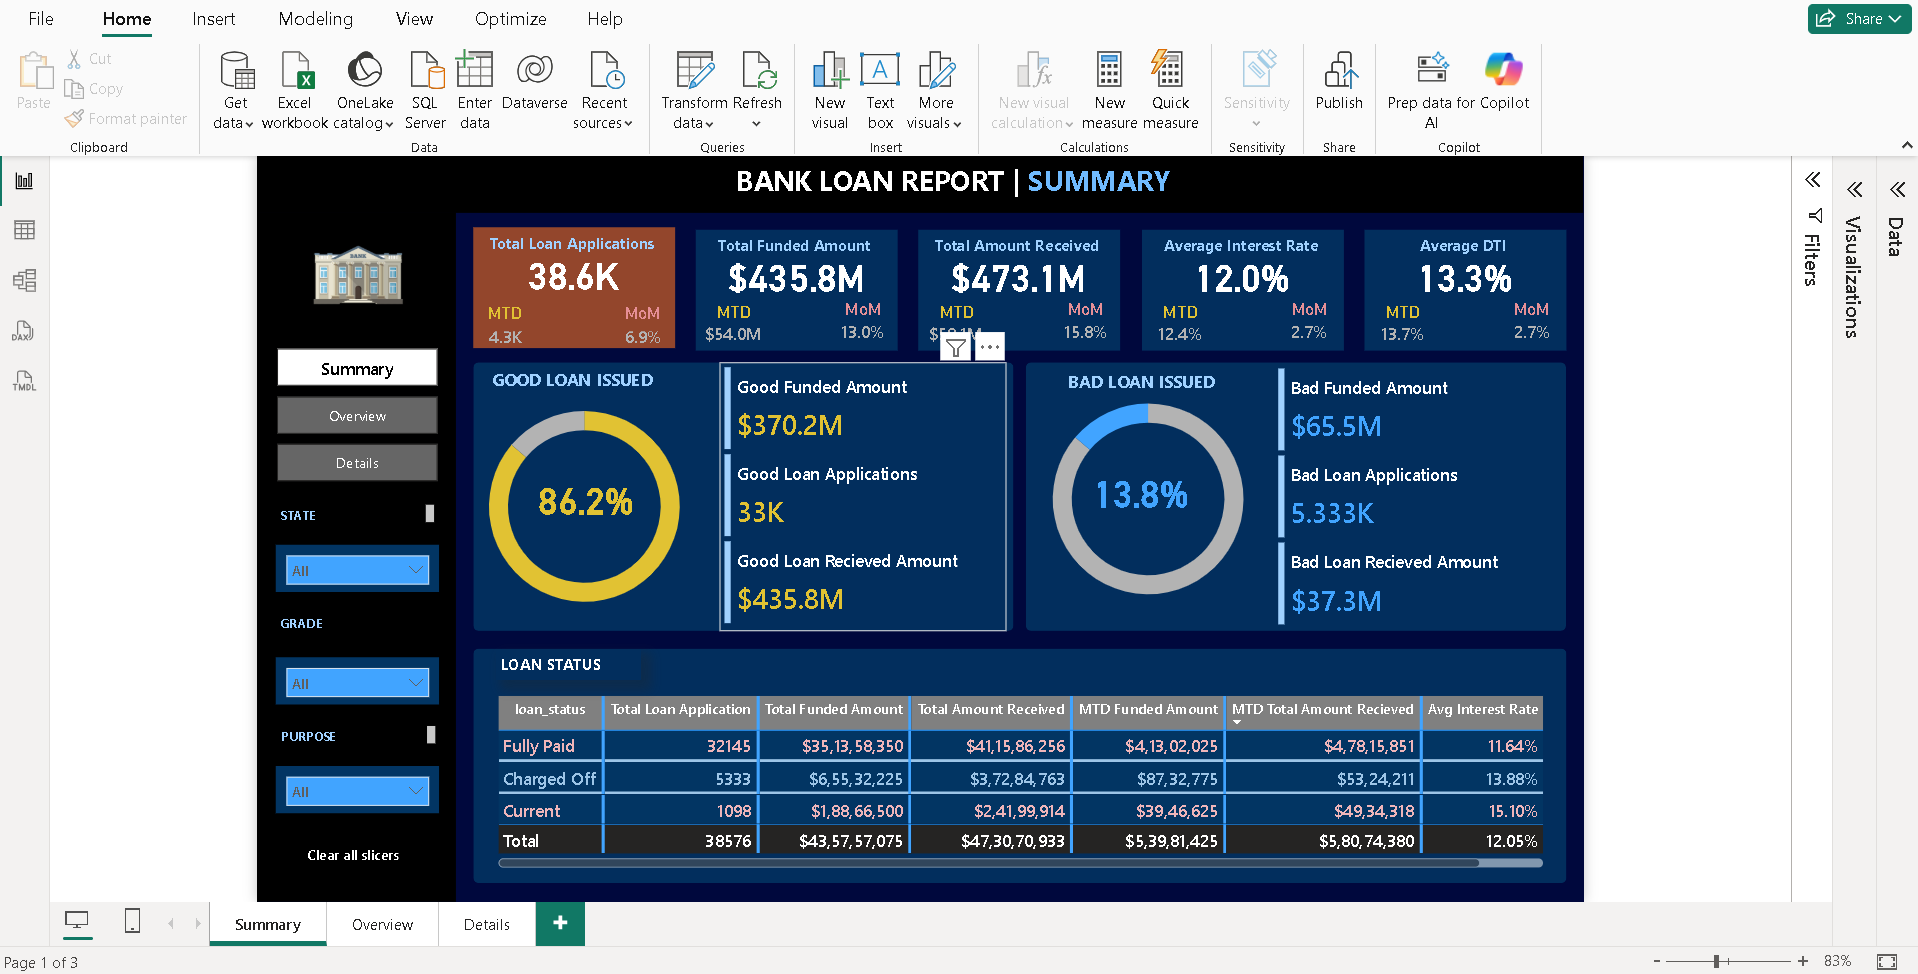

What the dashboard file says about the page in this screenshot:
{"tool":"powerbi","page":{"name":"Summary","canvas":[1280,720],"ordinal":0},"visuals":[{"type":"shape","box":[0,54.9,192.1,665.5],"z":0},{"type":"shape","box":[208.6,68.6,194.9,116.6],"z":0,"group":"g1"},{"type":"shape","box":[423.7,71.4,194.9,116.6],"z":0,"group":"g2"},{"type":"shape","box":[638.8,71.4,194.9,116.6],"z":0,"group":"g3"},{"type":"shape","box":[853.9,71.4,194.9,116.6],"z":0,"group":"g4"},{"type":"shape","box":[1069,71.4,194.9,116.6],"z":0,"group":"g5"},{"type":"shape","box":[0,0,1280.3,54.9],"z":1000},{"type":"card","fields":{"Values":["financial_loan.Total Loan Application"]},"box":[230.5,80.9,150.9,64.5],"z":1000,"group":"g1"},{"type":"card","fields":{"Values":["financial_loan.Total Funded Amount"]},"box":[445.6,83.7,150.9,64.5],"z":1000,"group":"g2"},{"type":"card","fields":{"Values":["financial_loan.Total Amount Received"]},"box":[660.7,83.7,150.9,64.5],"z":1000,"group":"g3"},{"type":"card","fields":{"Values":["financial_loan.Avg Interest Rate"]},"box":[875.8,83.7,150.9,64.5],"z":1000,"group":"g4"},{"type":"card","fields":{"Values":["financial_loan.Avg DTI"]},"box":[1090.9,83.7,150.9,64.5],"z":1000,"group":"g5"},{"type":"textbox","box":[188,68.6,231.9,32.9],"z":2000,"group":"g1"},{"type":"textbox","box":[403.1,71.4,231.9,32.9],"z":2000,"group":"g2"},{"type":"textbox","box":[618.2,71.4,231.9,32.9],"z":2000,"group":"g3"},{"type":"textbox","box":[833.3,71.4,231.9,32.9],"z":2000,"group":"g4"},{"type":"textbox","box":[1048.4,71.4,231.9,32.9],"z":2000,"group":"g5"},{"type":"shape","box":[208.6,199,521.4,259.3],"z":2000},{"type":"textbox","box":[419.9,0,505,50.8],"z":3000},{"type":"card","title":"MTD","fields":{"Values":["financial_loan.MTD Funded Amount"]},"box":[423.1,140,74.1,48],"z":3000,"group":"g2"},{"type":"card","title":"MTD","fields":{"Values":["financial_loan.MTD Total Amount Recieved"]},"box":[638.2,140,74.1,48],"z":3000,"group":"g3"},{"type":"card","title":"MTD","fields":{"Values":["financial_loan.MTD Average Int Rate"]},"box":[853.3,140,74.1,48],"z":3000,"group":"g4"},{"type":"card","title":"MTD","fields":{"Values":["financial_loan.MTD Average DTI"]},"box":[1068.4,140,74.1,48],"z":3000,"group":"g5"},{"type":"card","title":"MTD","fields":{"Values":["financial_loan.MTD Loan Application"]},"box":[208.6,141.3,61.7,43.9],"z":3000,"group":"g1"},{"type":"card","title":"MoM","fields":{"Values":["financial_loan.MoM Total Funded Amount"]},"box":[551.4,138.2,67.2,49.4],"z":4000,"group":"g2"},{"type":"card","title":"MoM","fields":{"Values":["financial_loan.MoM Total Amount Recieved"]},"box":[766.5,138.2,67.2,49.4],"z":4000,"group":"g3"},{"type":"card","title":"MoM","fields":{"Values":["financial_loan.MoM Avg Int Rate"]},"box":[981.6,138.2,67.2,49.4],"z":4000,"group":"g4"},{"type":"card","title":"MoM","fields":{"Values":["financial_loan.MoM Avg Int Rate"]},"box":[1196.7,138.2,67.2,49.4],"z":4000,"group":"g5"},{"type":"card","title":"MoM","fields":{"Values":["financial_loan.MoM Loan Application"]},"box":[341.7,141.3,61.7,43.9],"z":4000,"group":"g1"},{"type":"card","fields":{"Values":["financial_loan.Good Loan %"]},"box":[242.9,297.8,150.9,64.5],"z":4000},{"type":"group","id":"g1","title":"Group 1","box":[188,68.6,231.9,116.6],"z":5000},{"type":"group","id":"g2","title":"Group 1","box":[403.1,71.4,231.9,116.7],"z":6000},{"type":"group","id":"g3","title":"Group 1","box":[618.2,71.4,231.9,116.6],"z":7000},{"type":"group","id":"g4","title":"Group 1","box":[833.3,71.4,231.9,116.6],"z":8000},{"type":"group","id":"g5","title":"Group 1","box":[1048.4,71.4,231.9,116.6],"z":9000},{"type":"textbox","box":[222.3,199,181.1,34.3],"z":10000},{"type":"donutChart","fields":{"Category":["financial_loan.Good vs Bad Loan"],"Y":["financial_loan.Total Loan Application"]},"box":[185.2,218.2,260.7,240.1],"z":11000},{"type":"shape","box":[742.4,199,521.4,259.3],"z":12000},{"type":"cardVisual","fields":{"Data":["financial_loan.Good Funded Amount","financial_loan.Good Loan Applications","financial_loan.Good Loan Recieved Amount"]},"box":[446,199,277.2,259.3],"z":13000},{"type":"donutChart","fields":{"Category":["financial_loan.Good vs Bad Loan"],"Y":["financial_loan.Total Loan Application"]},"box":[730,211.3,260.7,240.1],"z":14000},{"type":"shape","box":[208.6,474.8,1055.2,226.4],"z":15000},{"type":"textbox","box":[778,200.3,163.3,32.9],"z":16000},{"type":"card","fields":{"Values":["financial_loan.Bad Loan %"]},"box":[778,286.8,150.9,72.7],"z":17000},{"type":"cardVisual","fields":{"Data":["financial_loan.Bad Funded Amount","financial_loan.Bad Loan Applications","financial_loan.Bad Loan Recieved Amount"]},"box":[981.1,200.3,277.2,259.3],"z":18000},{"type":"tableEx","fields":{"Values":["financial_loan.loan_status","financial_loan.Total Loan Application","financial_loan.Total Funded Amount","financial_loan.Total Amount Received","financial_loan.MTD Funded Amount","financial_loan.MTD Total Amount Recieved","financial_loan.Avg Interest Rate","financial_loan.Avg DTI"]},"box":[226.4,516,1019.6,175.6],"z":19000},{"type":"textbox","box":[230.5,474.8,140,30.2],"z":20000},{"type":"slicer","fields":{"Values":["financial_loan.address_state"]},"box":[17.8,375.7,157.8,45.3],"z":21000},{"type":"textbox","box":[17.8,332.1,157.8,27.4],"z":22000},{"type":"slicer","fields":{"Values":["financial_loan.grade","financial_loan.purpose"]},"box":[17.8,483.6,157.8,45.3],"z":23000},{"type":"slicer","fields":{"Values":["financial_loan.purpose"]},"box":[17.8,588.7,157.8,45.3],"z":24000},{"type":"textbox","box":[17.8,437.2,167.4,30.2],"z":25000},{"type":"textbox","box":[19.2,545,157.8,27.4],"z":26000},{"type":"image","box":[27.4,50.8,140,137.2],"z":27000},{"type":"pageNavigator","box":[19.2,185.2,155.1,129],"z":28000},{"type":"actionButton","box":[27.2,646.8,129.4,54.5],"z":28001}]}

Visuals, with their boxes on the page's 1280x720 design canvas (x1, y1, x2, y2). These are canvas units, not pixel positions in the 1918x974 screenshot, which may show the page scaled, cropped or inside an application window:
shape: x1=0 y1=55 x2=192 y2=720
shape: x1=209 y1=69 x2=404 y2=185
shape: x1=424 y1=71 x2=619 y2=188
shape: x1=639 y1=71 x2=834 y2=188
shape: x1=854 y1=71 x2=1049 y2=188
shape: x1=1069 y1=71 x2=1264 y2=188
shape: x1=0 y1=0 x2=1280 y2=55
card - financial_loan.Total Loan Application: x1=230 y1=81 x2=381 y2=145
card - financial_loan.Total Funded Amount: x1=446 y1=84 x2=596 y2=148
card - financial_loan.Total Amount Received: x1=661 y1=84 x2=812 y2=148
card - financial_loan.Avg Interest Rate: x1=876 y1=84 x2=1027 y2=148
card - financial_loan.Avg DTI: x1=1091 y1=84 x2=1242 y2=148
textbox: x1=188 y1=69 x2=420 y2=102
textbox: x1=403 y1=71 x2=635 y2=104
textbox: x1=618 y1=71 x2=850 y2=104
textbox: x1=833 y1=71 x2=1065 y2=104
textbox: x1=1048 y1=71 x2=1280 y2=104
shape: x1=209 y1=199 x2=730 y2=458
textbox: x1=420 y1=0 x2=925 y2=51
"MTD" card: x1=423 y1=140 x2=497 y2=188
"MTD" card: x1=638 y1=140 x2=712 y2=188
"MTD" card: x1=853 y1=140 x2=927 y2=188
"MTD" card: x1=1068 y1=140 x2=1142 y2=188
"MTD" card: x1=209 y1=141 x2=270 y2=185
"MoM" card: x1=551 y1=138 x2=619 y2=188
"MoM" card: x1=766 y1=138 x2=834 y2=188
"MoM" card: x1=982 y1=138 x2=1049 y2=188
"MoM" card: x1=1197 y1=138 x2=1264 y2=188
"MoM" card: x1=342 y1=141 x2=403 y2=185
card - financial_loan.Good Loan %: x1=243 y1=298 x2=394 y2=362
"Group 1" group: x1=188 y1=69 x2=420 y2=185
"Group 1" group: x1=403 y1=71 x2=635 y2=188
"Group 1" group: x1=618 y1=71 x2=850 y2=188
"Group 1" group: x1=833 y1=71 x2=1065 y2=188
"Group 1" group: x1=1048 y1=71 x2=1280 y2=188
textbox: x1=222 y1=199 x2=403 y2=233
donutChart - financial_loan.Good vs Bad Loan x financial_loan.Total Loan Application: x1=185 y1=218 x2=446 y2=458
shape: x1=742 y1=199 x2=1264 y2=458
cardVisual - financial_loan.Good Funded Amount x financial_loan.Good Loan Applications: x1=446 y1=199 x2=723 y2=458
donutChart - financial_loan.Good vs Bad Loan x financial_loan.Total Loan Application: x1=730 y1=211 x2=991 y2=451
shape: x1=209 y1=475 x2=1264 y2=701
textbox: x1=778 y1=200 x2=941 y2=233
card - financial_loan.Bad Loan %: x1=778 y1=287 x2=929 y2=360
cardVisual - financial_loan.Bad Funded Amount x financial_loan.Bad Loan Applications: x1=981 y1=200 x2=1258 y2=460
tableEx - financial_loan.loan_status x financial_loan.Total Loan Application: x1=226 y1=516 x2=1246 y2=692
textbox: x1=230 y1=475 x2=370 y2=505
slicer - financial_loan.address_state: x1=18 y1=376 x2=176 y2=421
textbox: x1=18 y1=332 x2=176 y2=360
slicer - financial_loan.grade x financial_loan.purpose: x1=18 y1=484 x2=176 y2=529
slicer - financial_loan.purpose: x1=18 y1=589 x2=176 y2=634
textbox: x1=18 y1=437 x2=185 y2=467
textbox: x1=19 y1=545 x2=177 y2=572
image: x1=27 y1=51 x2=167 y2=188
pageNavigator: x1=19 y1=185 x2=174 y2=314
actionButton: x1=27 y1=647 x2=157 y2=701
